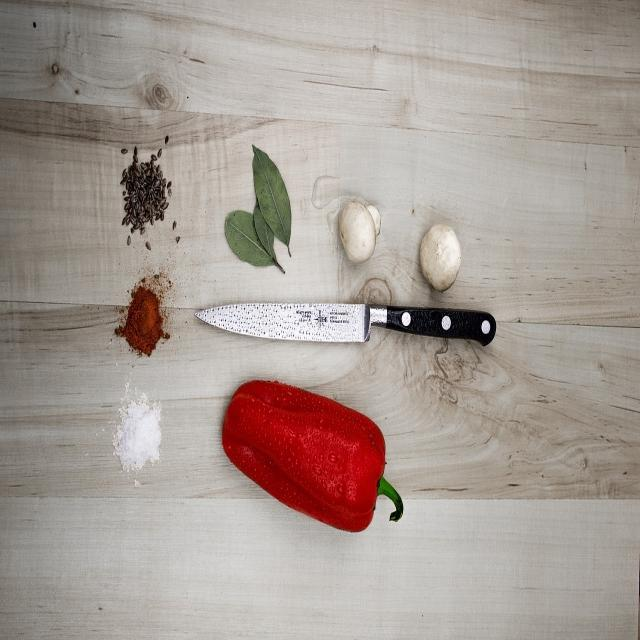Knife: (196, 304, 496, 344)
